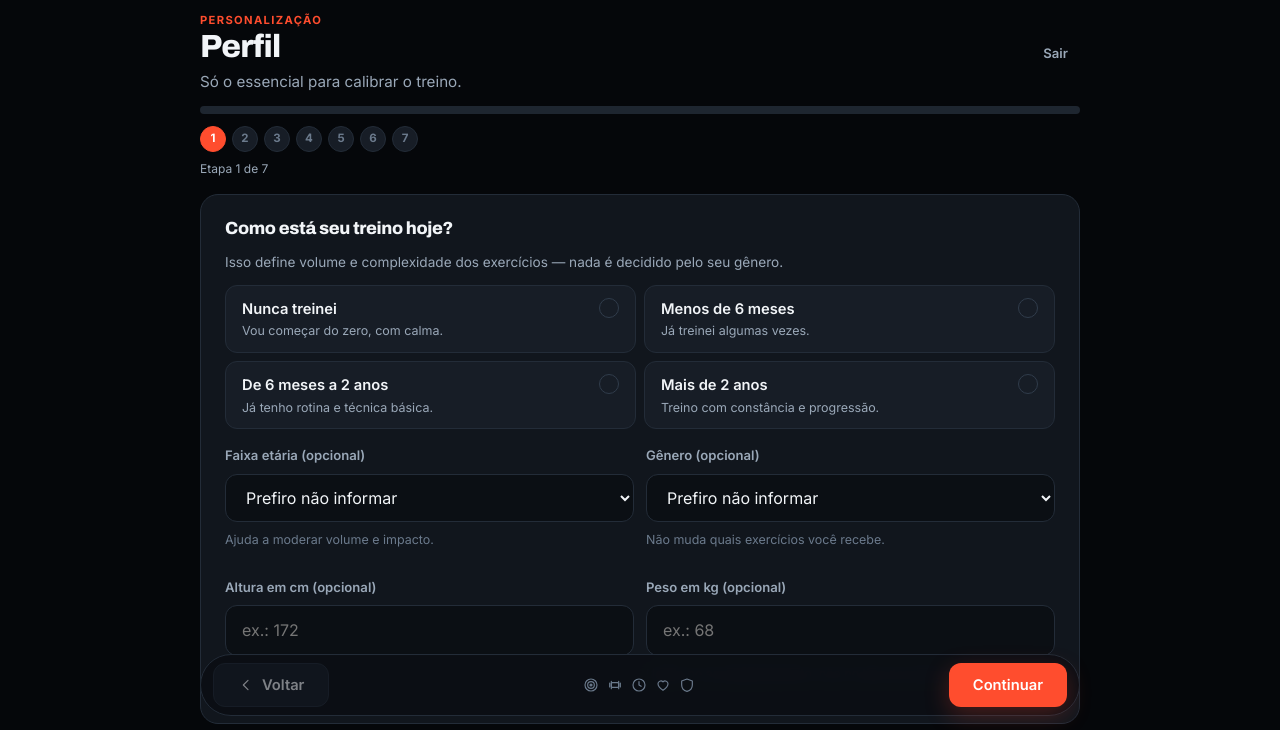
questionário de personalização › começa na etapa 1 e bloqueia avanço sem experiência
The image size is (1280, 730).
Expected: the heading "Como está seu treino hoje?" is shown, x1=225 y1=219 x2=453 y2=238
Click the button "Continuar".
click(1008, 685)  # box x1=949 y1=663 x2=1067 y2=707
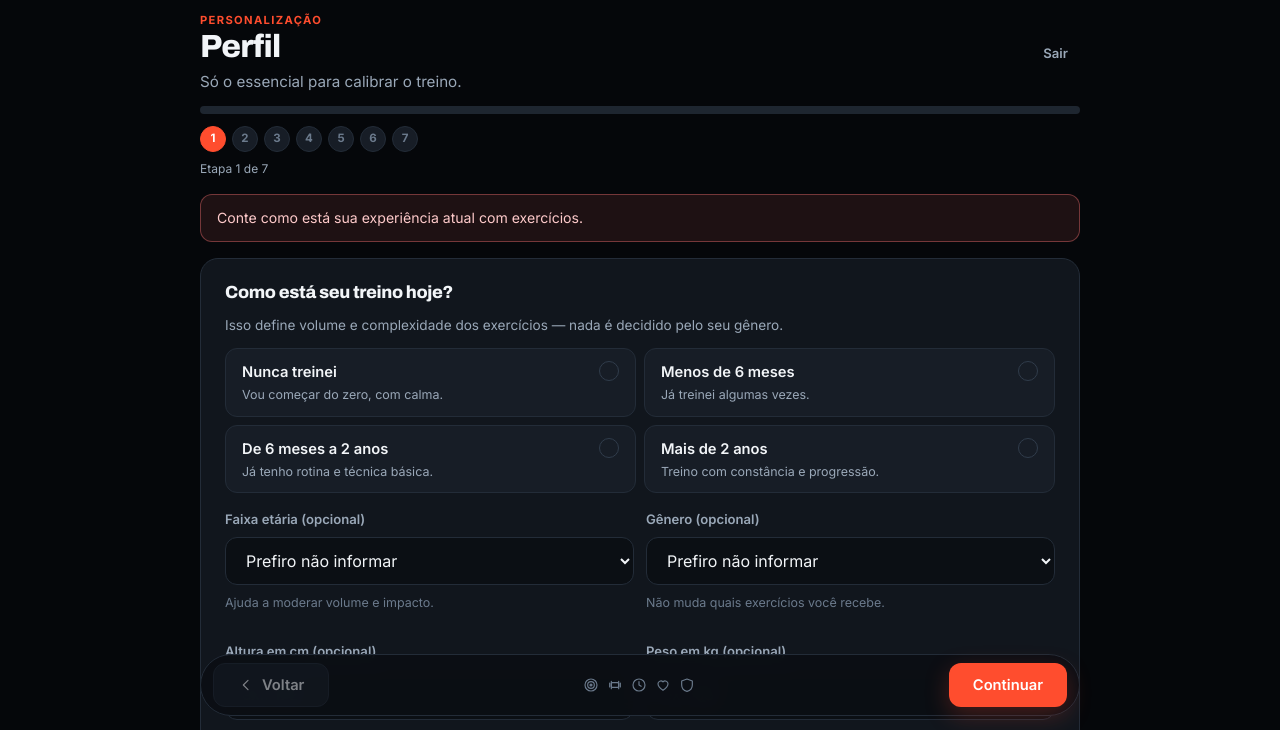
Expected: the heading "Como está seu treino hoje?" is shown, x1=225 y1=283 x2=453 y2=302
Expected: the text "Conte como está sua experiência atual com exercícios." is shown, x1=217 y1=207 x2=583 y2=229
